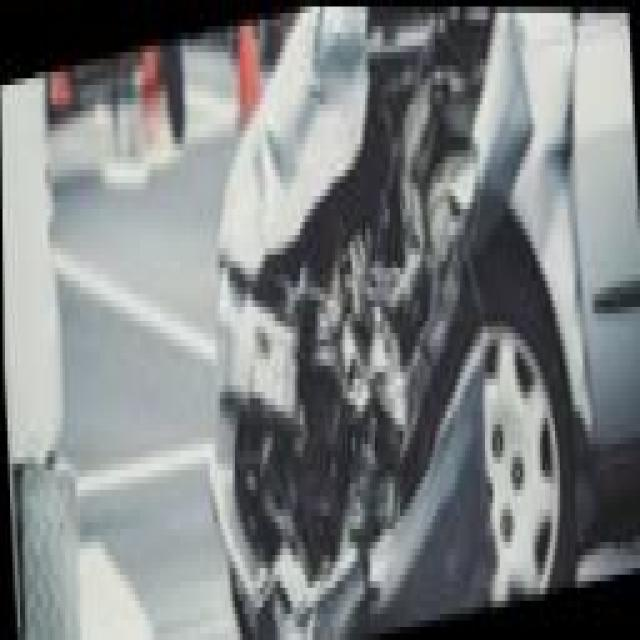Bonnet: (218, 5, 511, 284)
Bumper: (205, 262, 489, 640)
Light: (314, 238, 416, 383)
